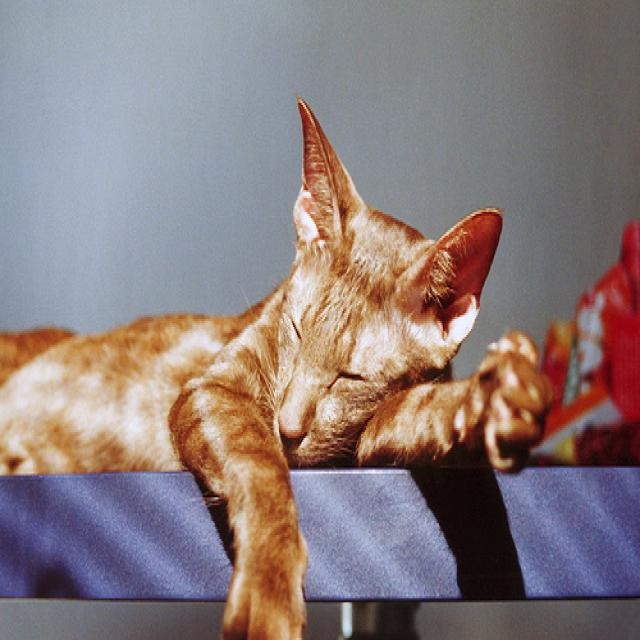left eye: (334, 364, 366, 384)
